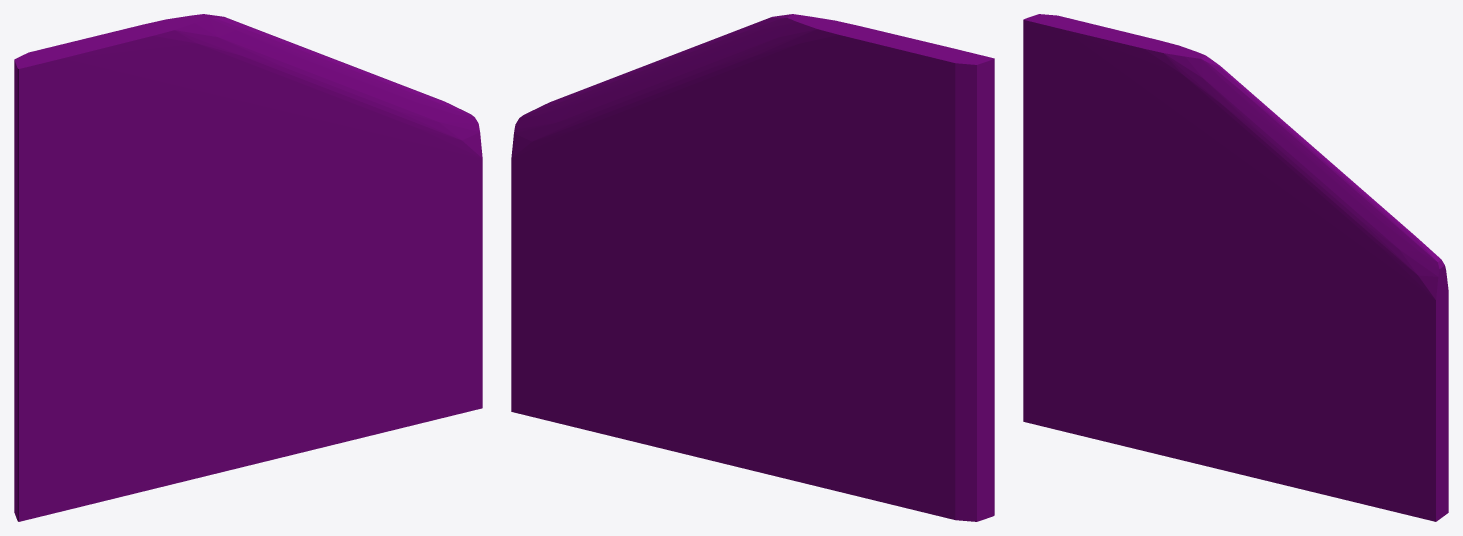
Rendered from right_palm_part_11.obj.
The picture shows the model from 3 angles, left to right: view 1: azimuth 30°, elevation 25°; view 2: azimuth 150°, elevation 25°; view 3: azimuth 330°, elevation 25°; orthographic projection. The views are drawn at different scales.
Bounding box in the file's own units: 11.02 × 10.27 × 0.5986.
